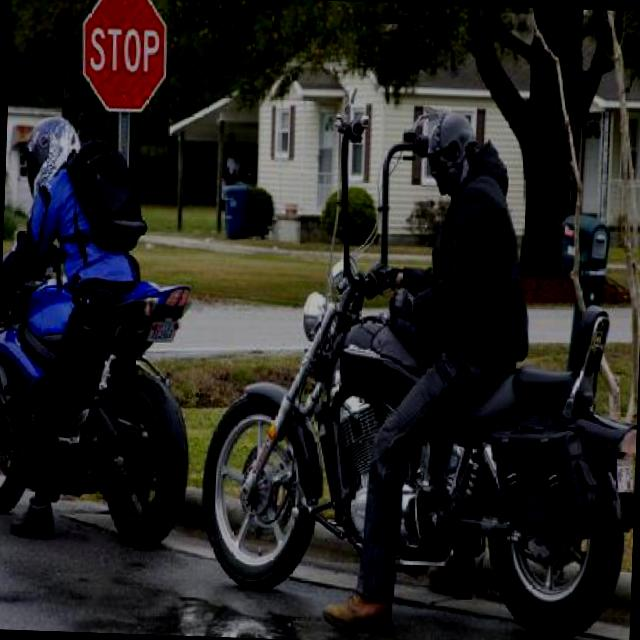Person: (321, 105, 541, 635), (0, 111, 145, 534)
